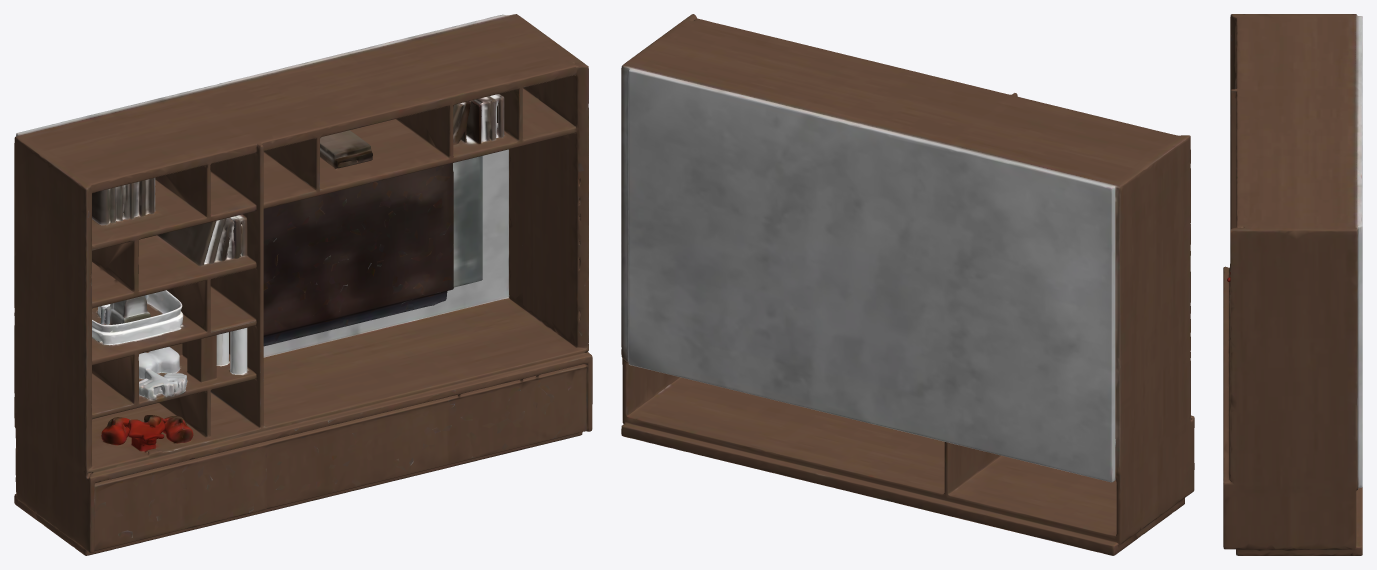
Rendered from item-21.glb.
3 views of the same model, side by side, from view 1: azimuth 30°, elevation 25°; view 2: azimuth 150°, elevation 25°; view 3: azimuth 270°, elevation 25° (orthographic). The views are drawn at different scales.
Visible parts, largest first — view 1: geometry_0; view 2: geometry_0; view 3: geometry_0.
Part boxes in pixels (x1=…): geometry_0: x1=14, y1=14, x2=592, y2=555; geometry_0: x1=621, y1=14, x2=1194, y2=555; geometry_0: x1=1223, y1=14, x2=1362, y2=555.
Size of the model in its own units: 1 by 0.7074 by 0.2732.
Materials: 1 (1 with a texture image).
